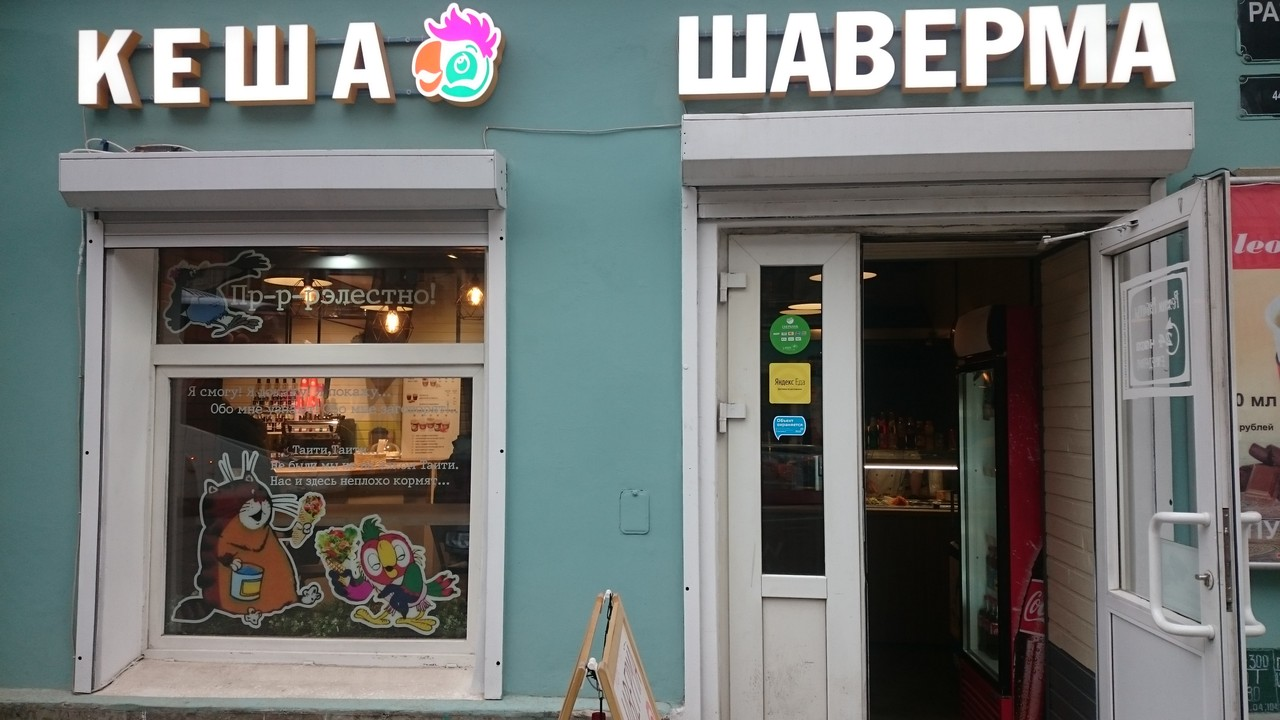door: (863, 173, 1245, 720)
signboard: (679, 2, 1178, 95), (77, 2, 502, 104)
window: (142, 249, 486, 661)
